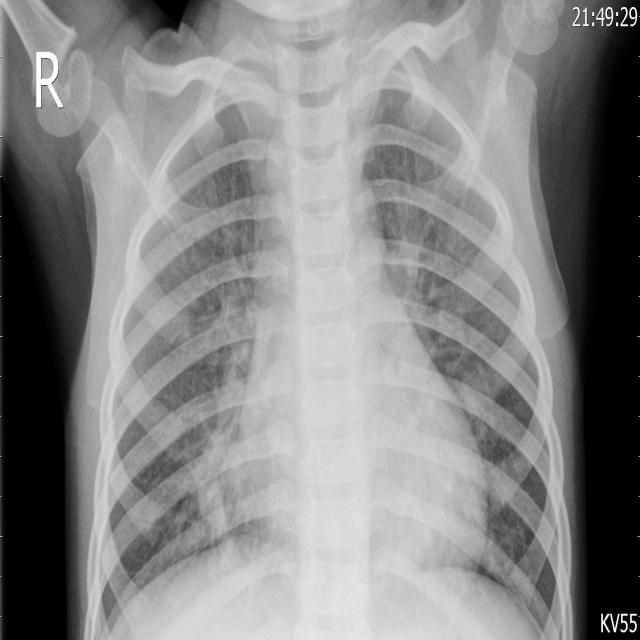low-pneumonia: (391, 178, 506, 453), (175, 416, 264, 561), (211, 224, 264, 421)
